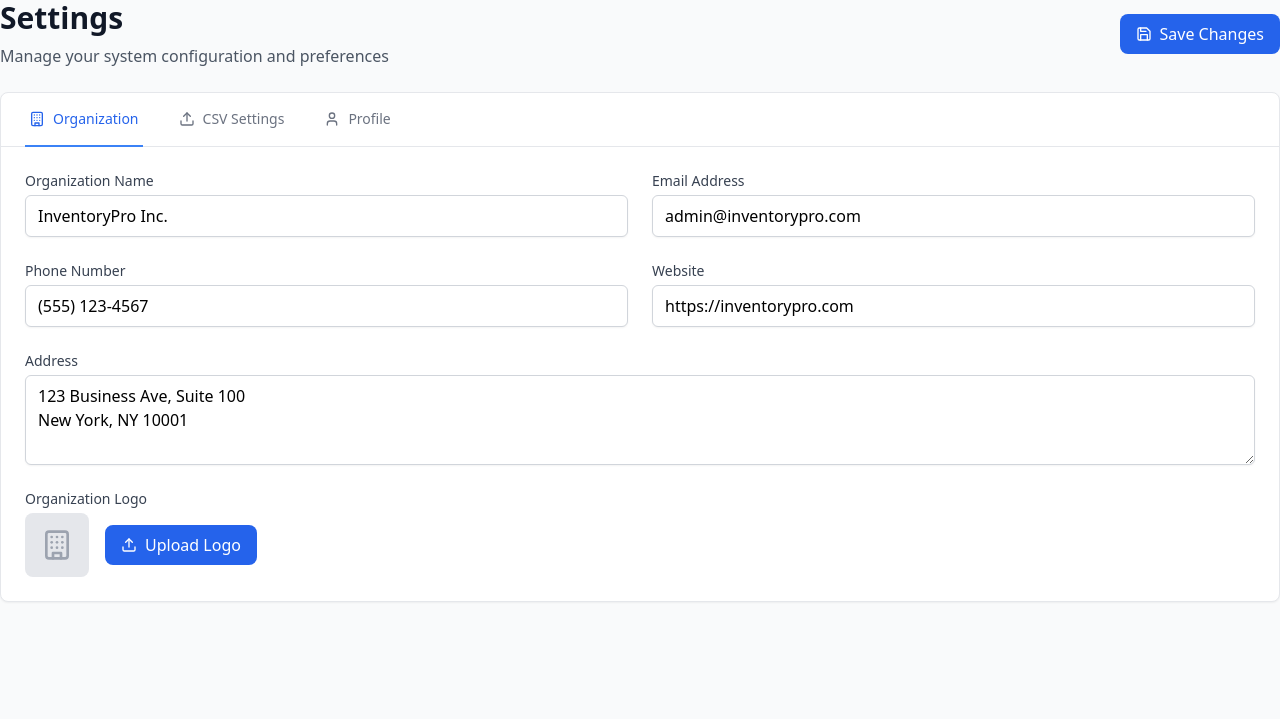
Settings Component › switching tabs shows correct content
Click the button "CSV Settings" at (231, 120), box [174,93,288,147]
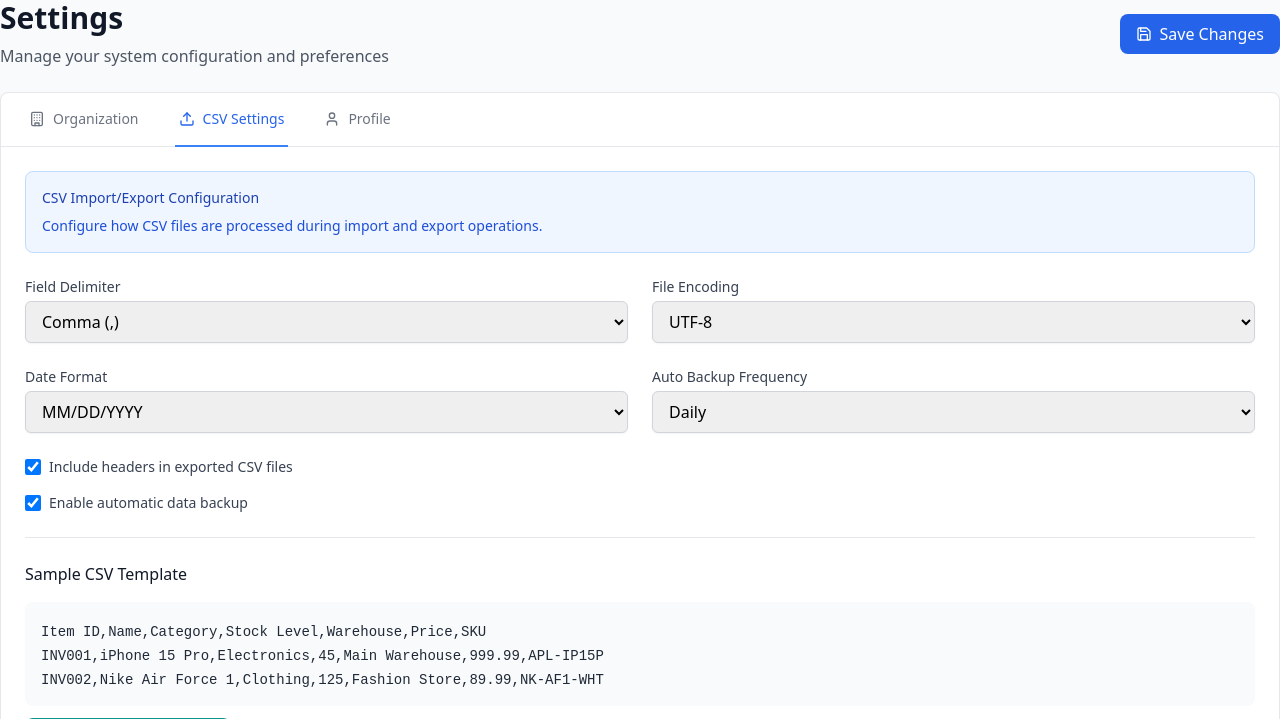
Check: the heading "CSV Import/Export Configuration" is shown, box [42,188,259,207]
Click the button "Profile" at (358, 120), box [320,93,395,147]
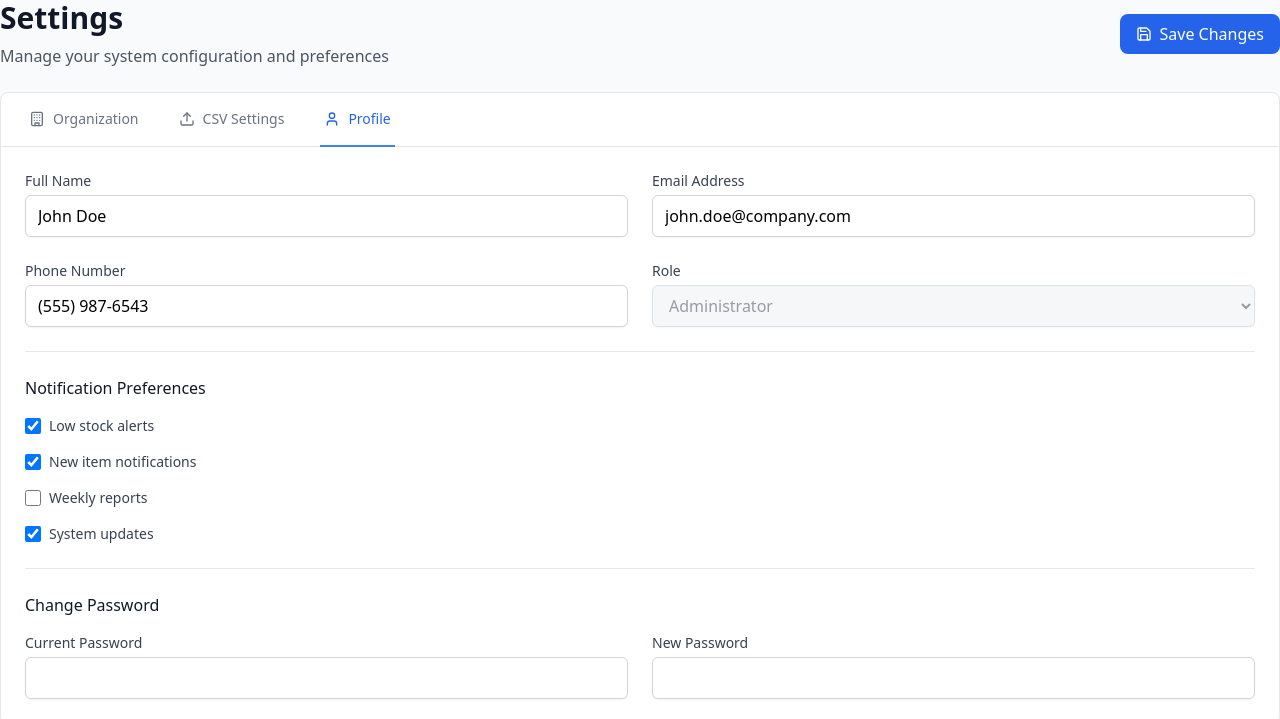
Check: the heading "Notification Preferences" is shown, box [25,377,206,399]
